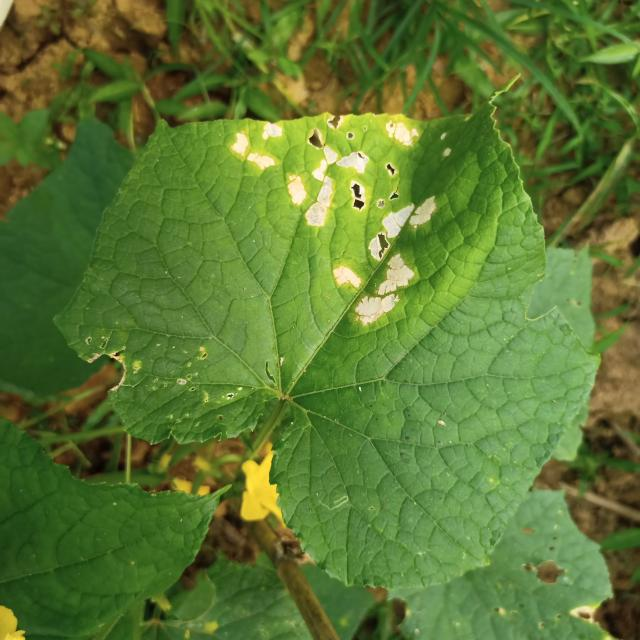disease_cucumber: (224, 104, 446, 337)
